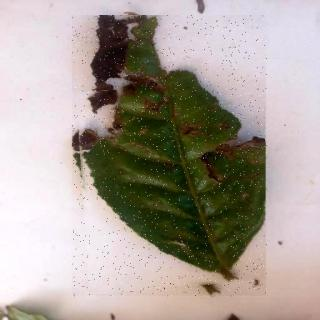Brown Blight: (74, 17, 269, 298)
